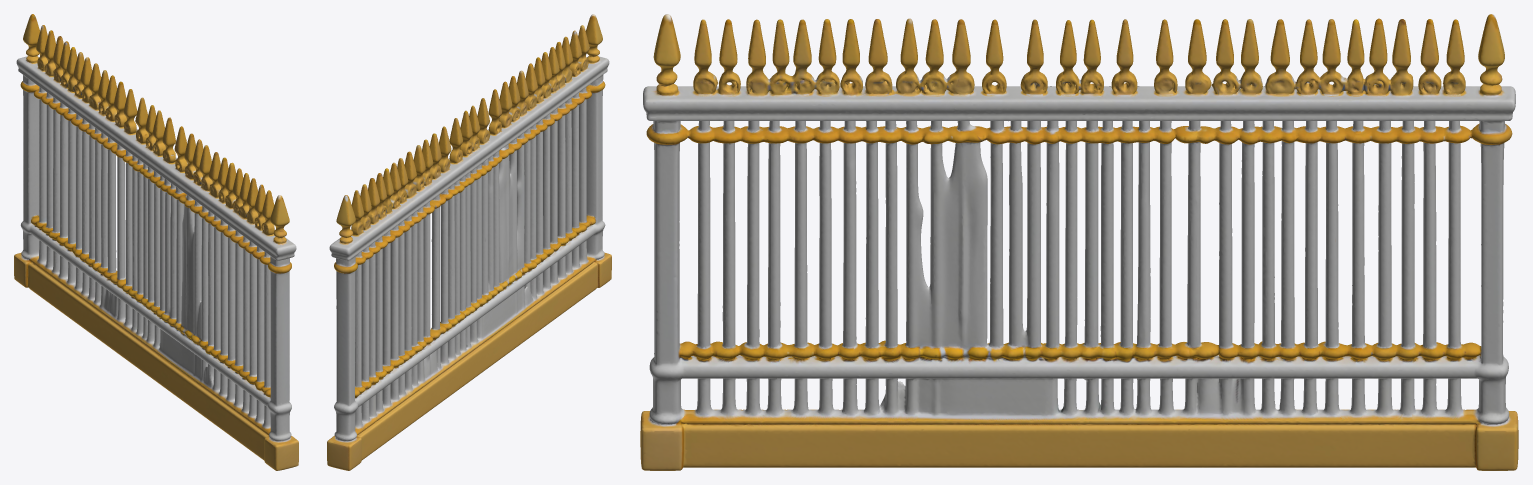
Rendered from modello 3d staccionata vittoriana.glb.
The picture shows the model from 3 angles, left to right: view 1: azimuth 30°, elevation 25°; view 2: azimuth 150°, elevation 25°; view 3: azimuth 270°, elevation 25°; orthographic projection. The views are drawn at different scales.
Parts seen in each view (by area): view 1: tripo_node_55150e69-b389-407a-a21b-d27c804377b8; view 2: tripo_node_55150e69-b389-407a-a21b-d27c804377b8; view 3: tripo_node_55150e69-b389-407a-a21b-d27c804377b8.
Boxes of the visible parts, x1=… form: tripo_node_55150e69-b389-407a-a21b-d27c804377b8: x1=14, y1=14, x2=298, y2=470; tripo_node_55150e69-b389-407a-a21b-d27c804377b8: x1=327, y1=14, x2=611, y2=470; tripo_node_55150e69-b389-407a-a21b-d27c804377b8: x1=640, y1=14, x2=1518, y2=470.
Bounding box in the file's own units: 0.0531 × 0.5637 × 1.
Materials: 1 (1 with a texture image).
